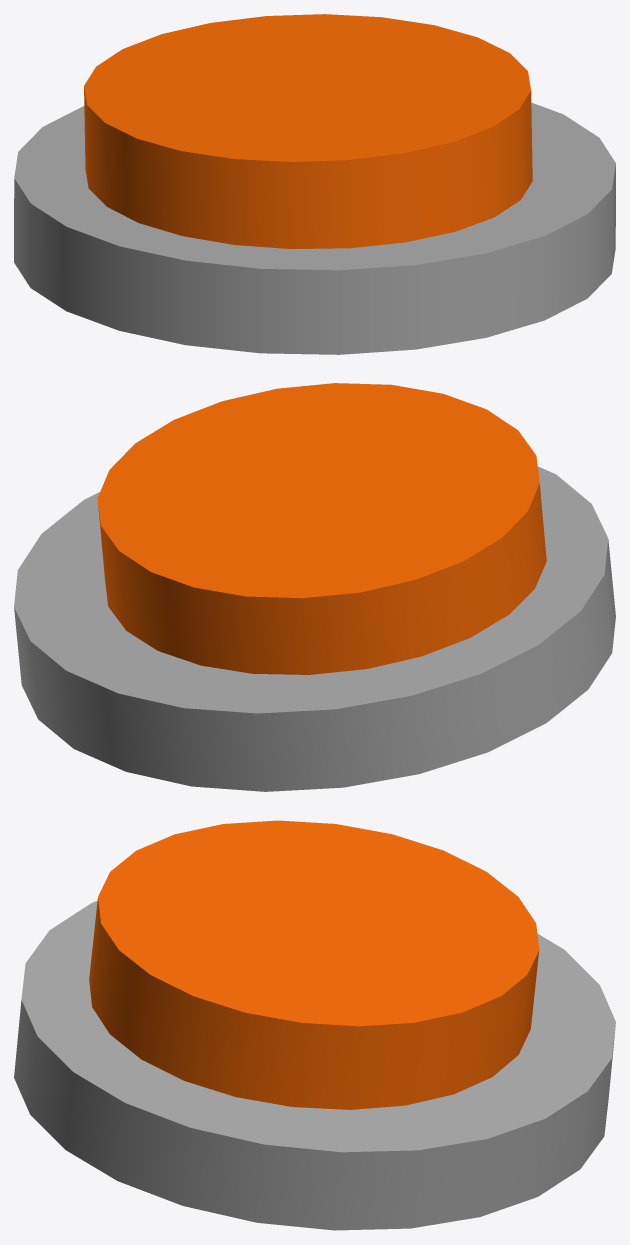
The model's file is plasma ball hologram puzzle lock activation button.fbx.
3 renders of one model, top to bottom at view 1: azimuth 30°, elevation 25°; view 2: azimuth 150°, elevation 25°; view 3: azimuth 270°, elevation 25°, orthographic.
Parts seen in each view (by area): view 1: c96e0210-4e9d-413a-b317-f6a71a90510b; view 2: c96e0210-4e9d-413a-b317-f6a71a90510b; view 3: c96e0210-4e9d-413a-b317-f6a71a90510b.
Part boxes in pixels (x1,y1,x2,y2): c96e0210-4e9d-413a-b317-f6a71a90510b: (14,14,615,354); c96e0210-4e9d-413a-b317-f6a71a90510b: (14,383,615,791); c96e0210-4e9d-413a-b317-f6a71a90510b: (14,820,615,1230).
Bounding box in the file's own units: 9138 × 3541 × 9165.
